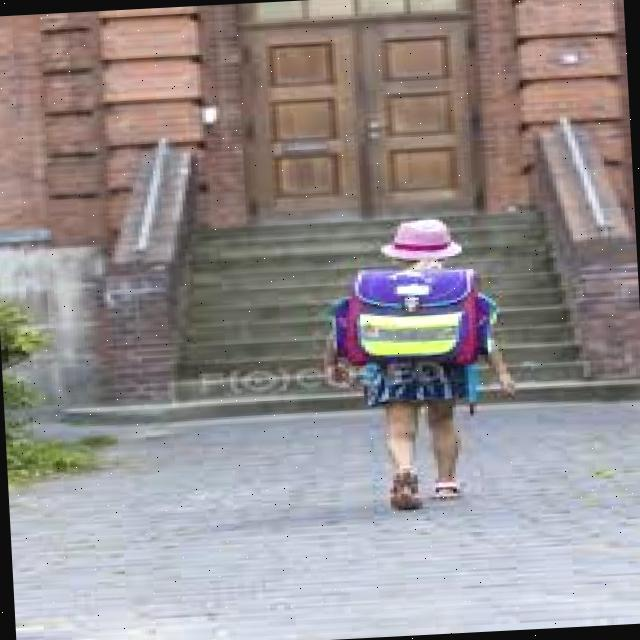stairs: (159, 202, 595, 408)
